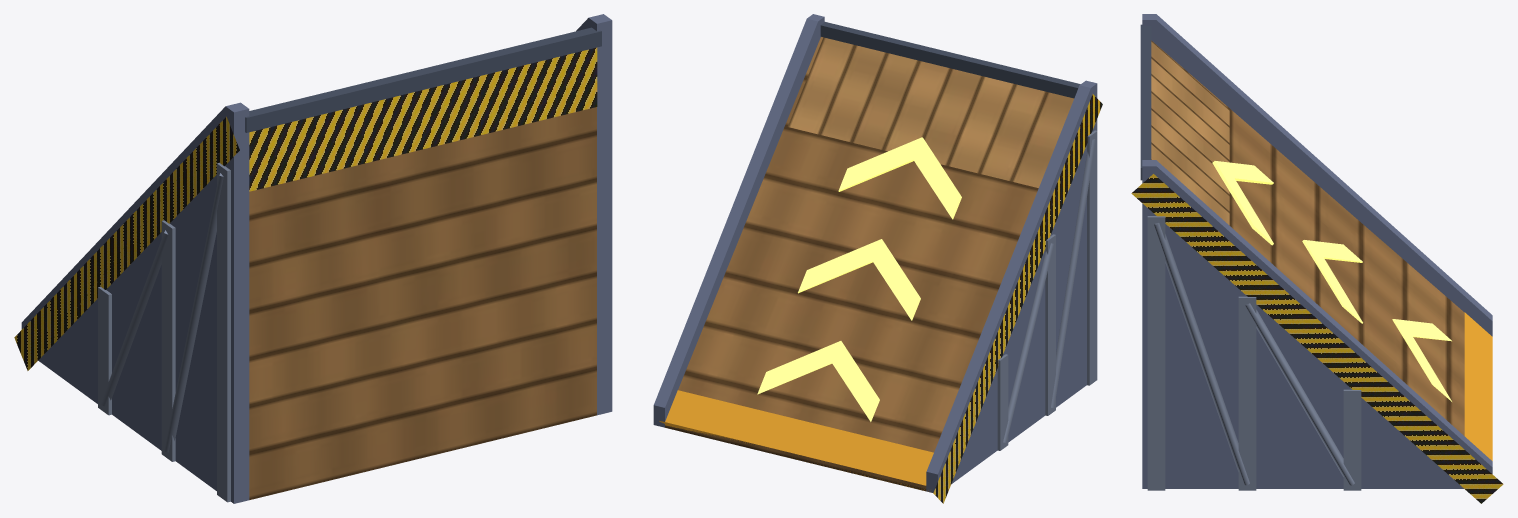
The model's file is ramp.glb.
The picture shows the model from 3 angles, left to right: view 1: azimuth 30°, elevation 25°; view 2: azimuth 150°, elevation 25°; view 3: azimuth 270°, elevation 25°; orthographic projection. The views are drawn at different scales.
Visible parts, largest first — view 1: ramp_mesh; view 2: ramp_mesh; view 3: ramp_mesh.
Part boxes in pixels (x1,y1,x2,y2): ramp_mesh: (14,14,612,503); ramp_mesh: (653,14,1102,503); ramp_mesh: (1131,14,1503,503).
Size of the model in its own units: 1 by 1 by 1.
Materials: 4 (2 with a texture image).
